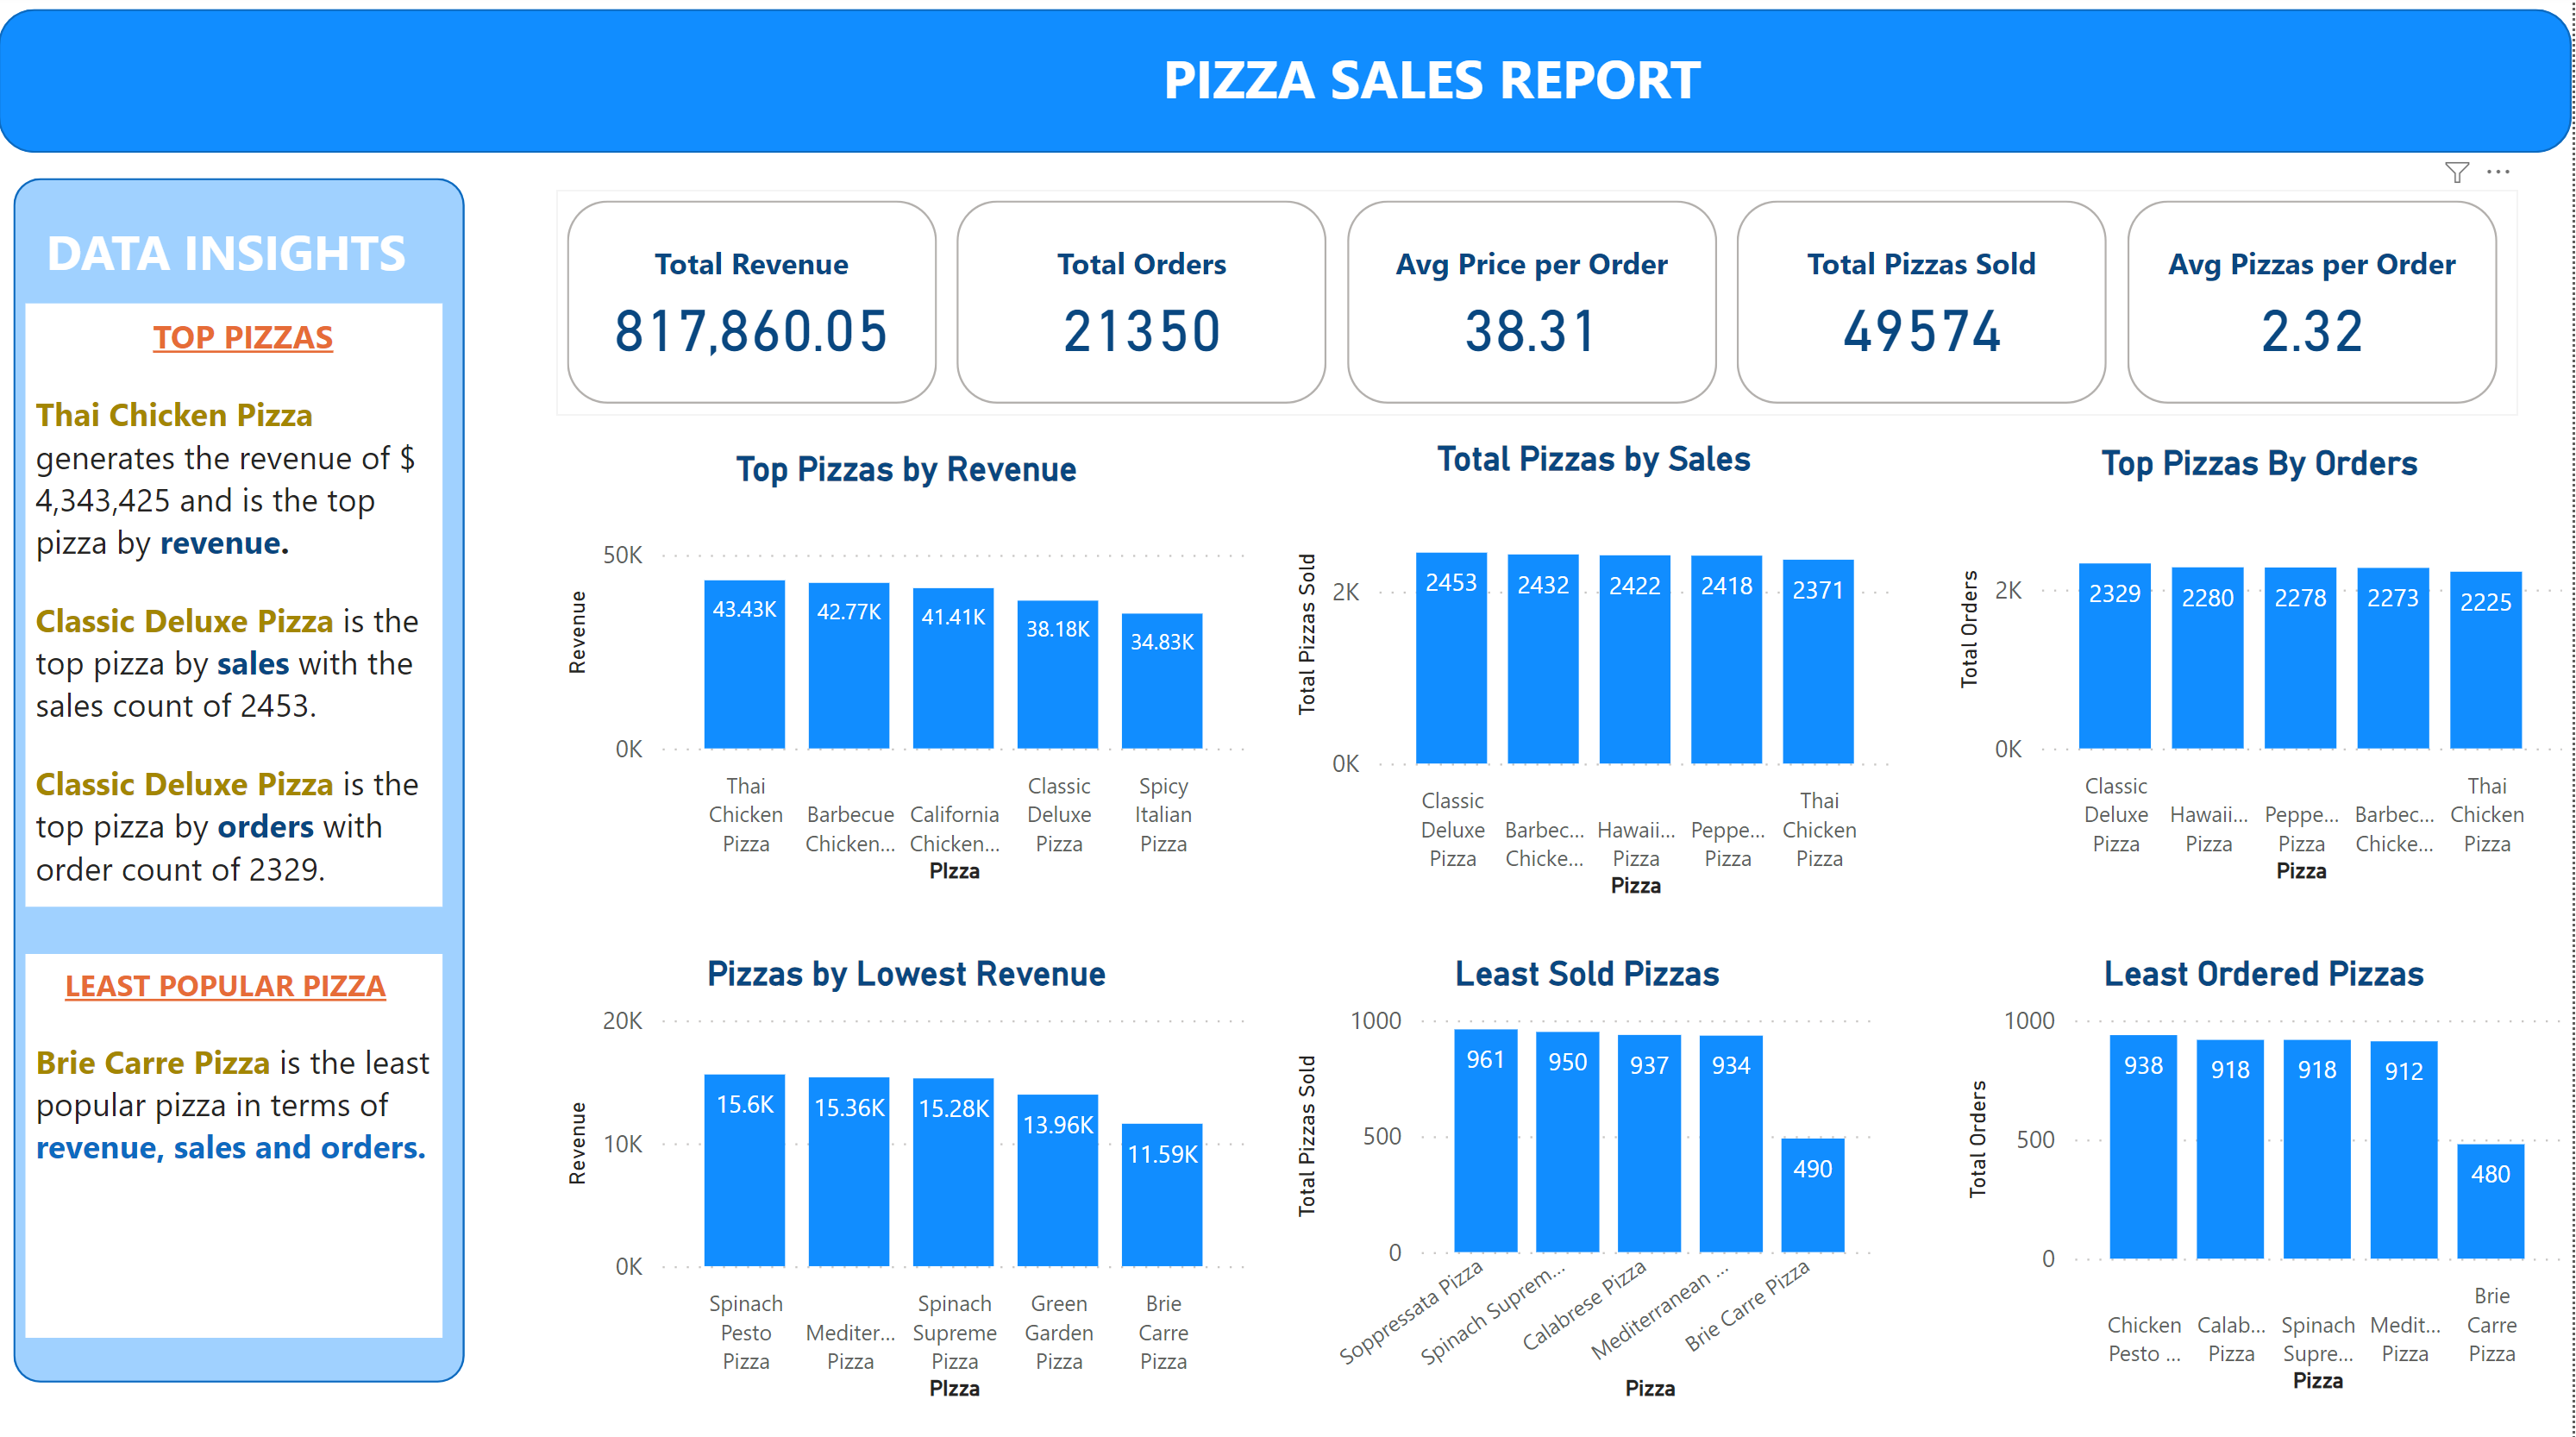

Layout of this report page (visuals, bound fields, positions):
{"tool":"powerbi","page":{"name":"Page 2","canvas":[1280,720],"ordinal":1},"visuals":[{"type":"cardVisual","fields":{"Data":["pizza_sales.Total Revenue","pizza_sales.Total Orders","pizza_sales.Avg Price per Order","pizza_sales.Total Pizzas Sold","pizza_sales.Avg Pizzas per Order"]},"box":[277.7,97.6,975,111.8],"z":0},{"type":"columnChart","title":"Top Pizzas by Revenue ","fields":{"Category":["pizza_sales.pizza_name"],"Y":["pizza_sales.Total Revenue"]},"box":[277.7,226.7,348.3,219.9],"z":1000},{"type":"columnChart","title":"Top Pizzas By Orders","fields":{"Category":["pizza_sales.pizza_name"],"Y":["pizza_sales.Total Orders"]},"box":[969.7,223.7,310,222.9],"z":2000},{"type":"columnChart","title":"Total Pizzas by Sales","fields":{"Category":["pizza_sales.pizza_name"],"Y":["pizza_sales.Total Pizzas Sold"]},"box":[640.2,221.4,307,232.7],"z":3000},{"type":"columnChart","title":" Pizzas by Lowest Revenue ","fields":{"Category":["pizza_sales.pizza_name"],"Y":["pizza_sales.Total Revenue"]},"box":[277.7,477.4,348.3,226.7],"z":4000},{"type":"columnChart","title":"Least Sold Pizzas","fields":{"Category":["pizza_sales.pizza_name"],"Y":["pizza_sales.Total Pizzas Sold"]},"box":[640.2,477.4,300.2,226.7],"z":5000},{"type":"columnChart","title":"Least Ordered Pizzas","fields":{"Category":["pizza_sales.pizza_name"],"Y":["pizza_sales.Total Orders"]},"box":[974.2,477.4,305.5,222.9],"z":6000},{"type":"shape","box":[0,7.2,1279.9,71.5],"z":7000},{"type":"textbox","box":[574.2,18,295.7,46.5],"z":8000},{"type":"shape","box":[7.5,91.6,224.4,598.9],"z":9000},{"type":"textbox","box":[18.8,106.6,201.9,47.3],"z":10000},{"type":"textbox","box":[13.5,153.9,207.2,300.2],"z":11000},{"type":"textbox","box":[13.5,477.4,207.2,190.6],"z":12000}]}

Visuals, with their boxes in screenshot pixels (x1, y1, x2, y2), scaled from the page's 1280x720 canvas onto the 2576x1437 screenshot:
cardVisual - pizza_sales.Total Revenue x pizza_sales.Total Orders: left=559, top=195, right=2521, bottom=418
"Top Pizzas by Revenue " columnChart: left=559, top=453, right=1260, bottom=891
"Top Pizzas By Orders" columnChart: left=1952, top=447, right=2575, bottom=891
"Total Pizzas by Sales" columnChart: left=1288, top=442, right=1906, bottom=907
" Pizzas by Lowest Revenue " columnChart: left=559, top=953, right=1260, bottom=1405
"Least Sold Pizzas" columnChart: left=1288, top=953, right=1893, bottom=1405
"Least Ordered Pizzas" columnChart: left=1960, top=953, right=2575, bottom=1397
shape: left=0, top=15, right=2575, bottom=157
textbox: left=1156, top=36, right=1751, bottom=129
shape: left=16, top=183, right=467, bottom=1378
textbox: left=38, top=213, right=444, bottom=307
textbox: left=28, top=307, right=444, bottom=907
textbox: left=28, top=953, right=444, bottom=1333
